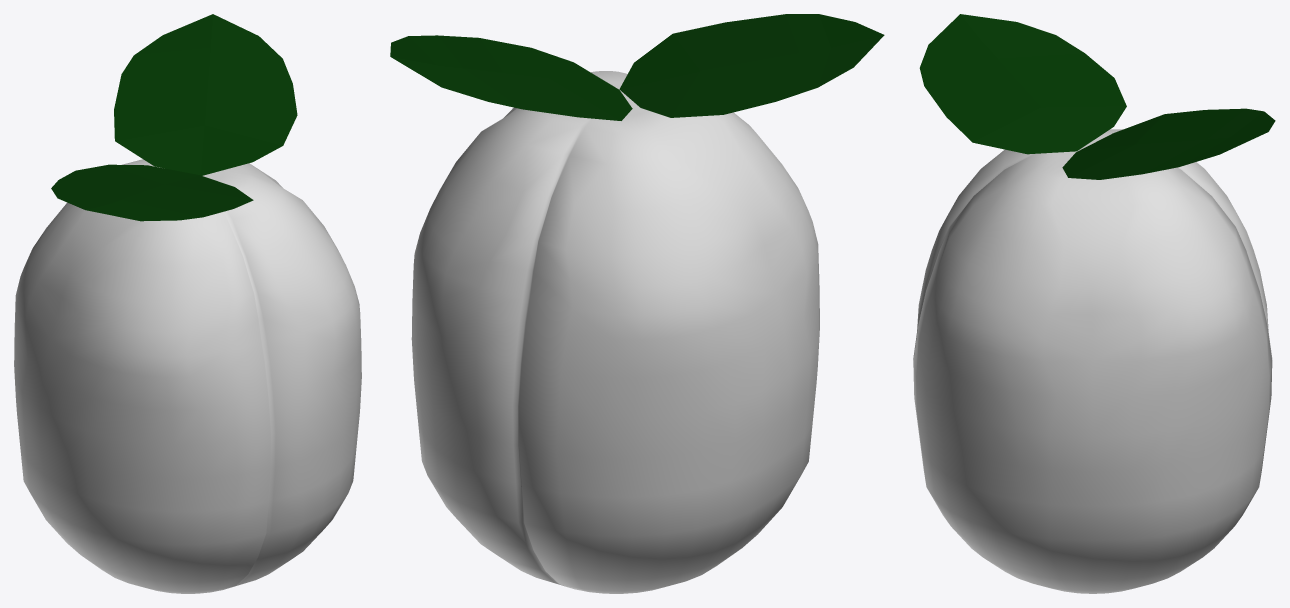
The model's file is plum.fbx.
The picture shows the model from 3 angles, left to right: view 1: azimuth 30°, elevation 25°; view 2: azimuth 150°, elevation 25°; view 3: azimuth 270°, elevation 25°; orthographic projection. The views are drawn at different scales.
Parts seen in each view (by area): view 1: Sphere.001; view 2: Sphere.001; view 3: Sphere.001.
Part boxes in pixels (x1,y1,x2,y2): Sphere.001: (14,14,361,593); Sphere.001: (390,14,884,593); Sphere.001: (913,14,1275,593).
Bounding box in the file's own units: 174 × 252 × 165.
